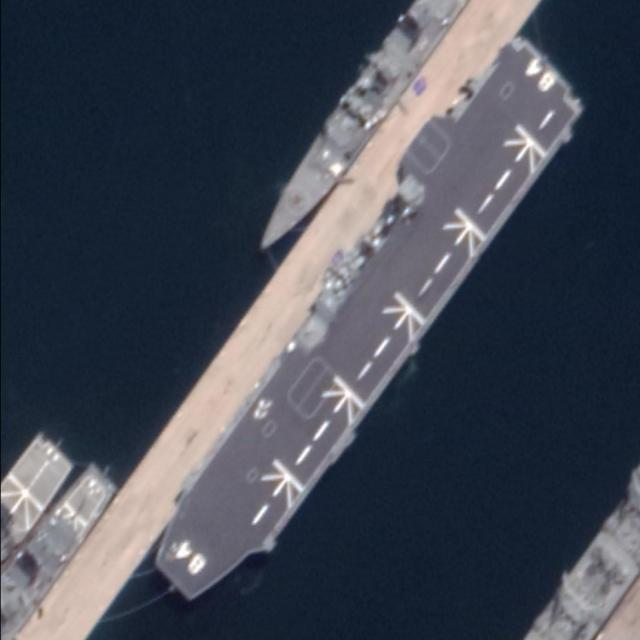Destroyer: (129, 36, 602, 621)
